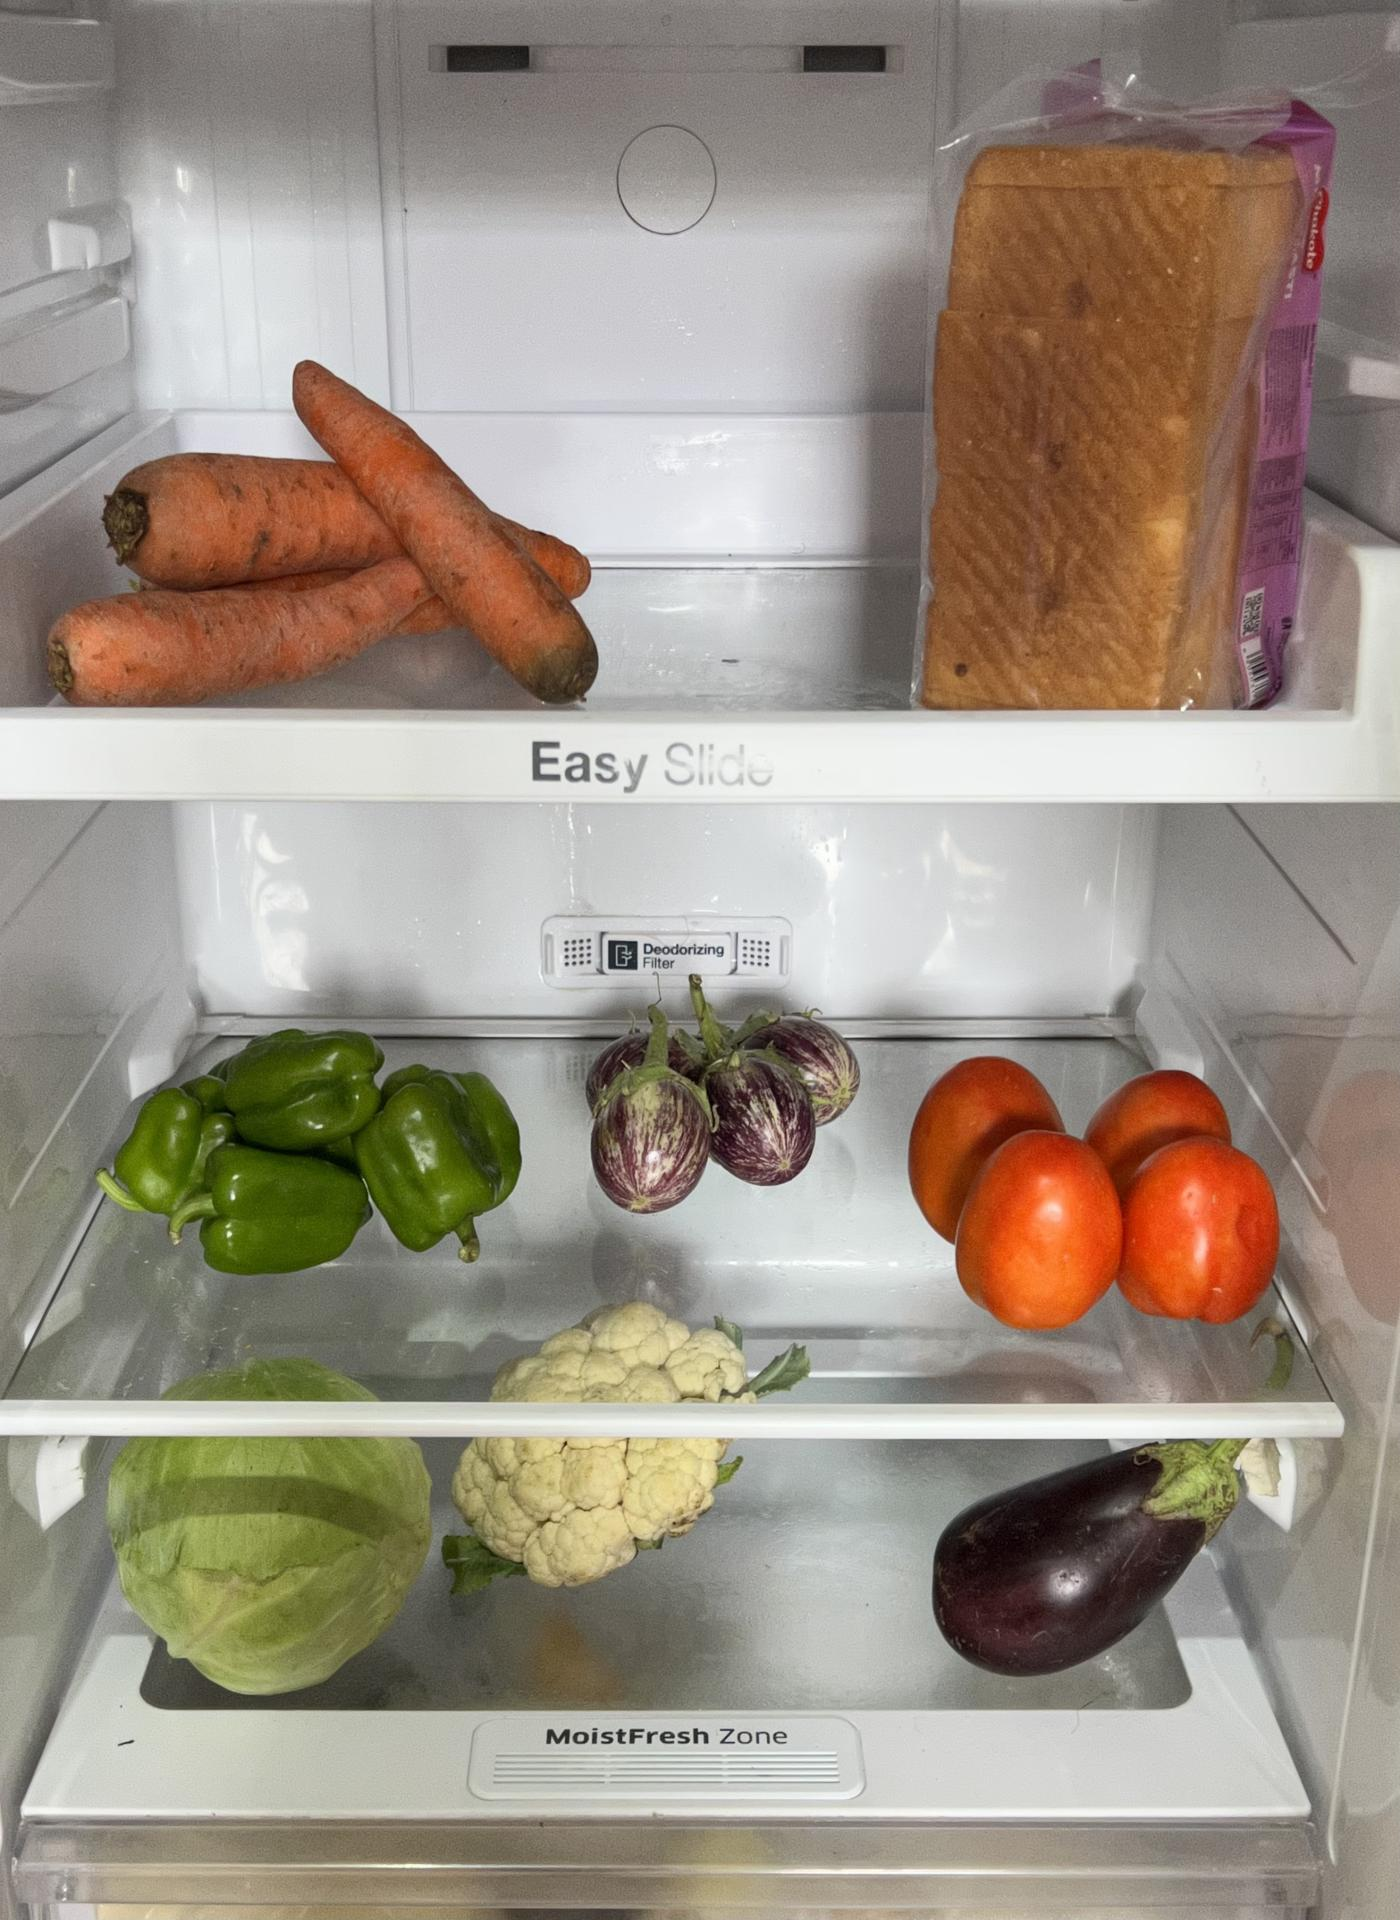bread: (905, 112, 1330, 702)
cabbage: (101, 1428, 429, 1696)
capsicum: (110, 1027, 514, 1275)
carrots: (49, 407, 607, 699)
cauliflower: (456, 1312, 756, 1583)
tomato: (905, 1049, 1278, 1327)
